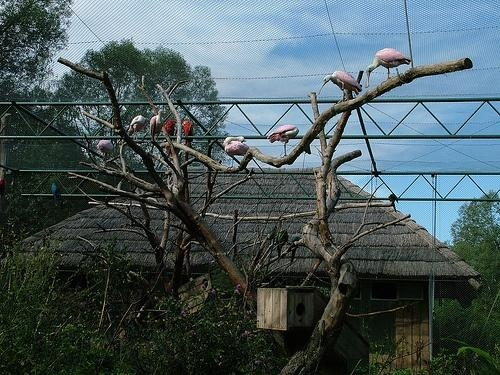bird: (366, 50, 413, 89), (318, 71, 362, 104), (268, 124, 299, 158), (224, 137, 250, 170), (150, 110, 167, 141), (128, 117, 149, 140), (98, 141, 114, 163)
